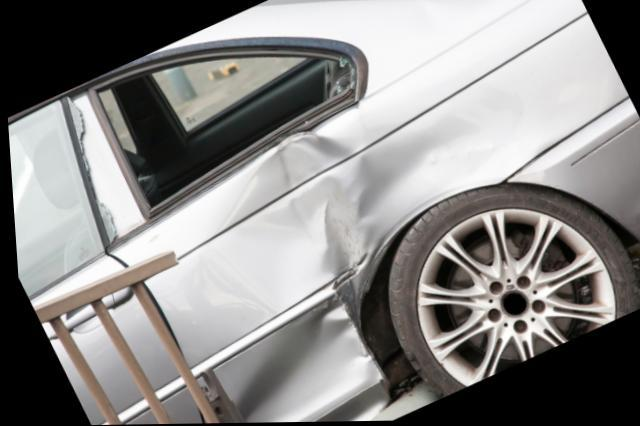dent: (226, 85, 540, 423)
